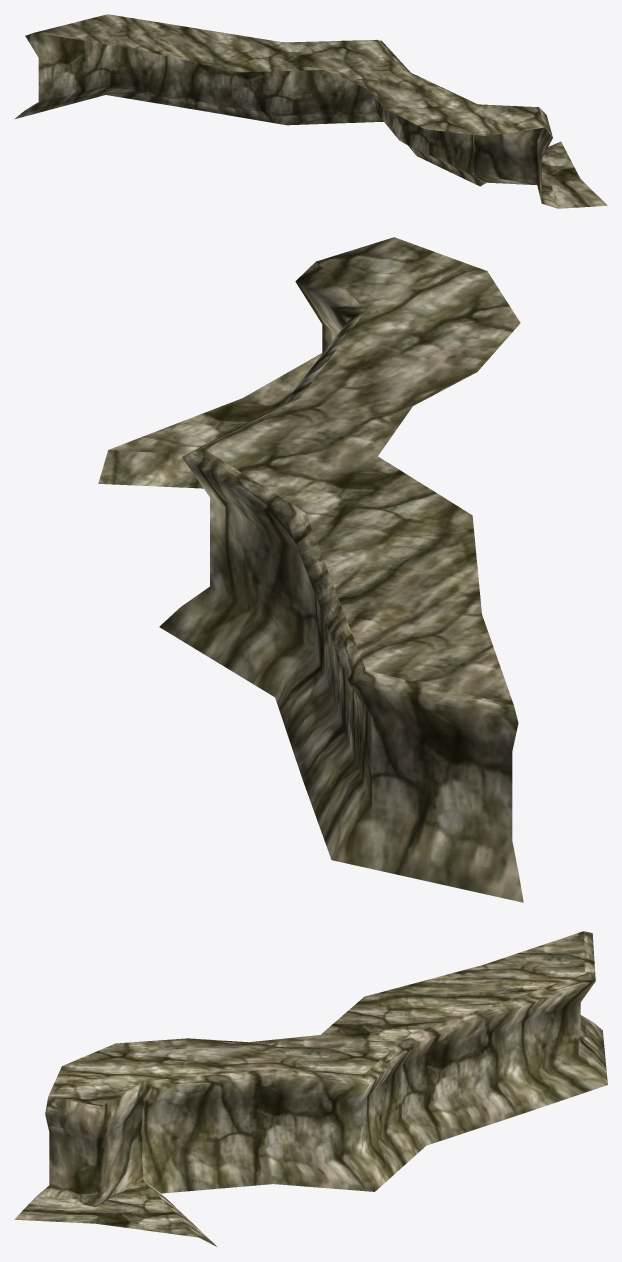
File: CB_NEWPLAYSURFACE_CB_PLAYSURFACE107.fbx
3 views of the same model, one above another, from view 1: azimuth 30°, elevation 25°; view 2: azimuth 150°, elevation 25°; view 3: azimuth 270°, elevation 25° (orthographic). The views are drawn at different scales.
Visible parts, largest first — view 1: CB_NEWPLAYSURFACE_CB_PLAYSURFACE107; view 2: CB_NEWPLAYSURFACE_CB_PLAYSURFACE107; view 3: CB_NEWPLAYSURFACE_CB_PLAYSURFACE107.
Boxes of the visible parts, bbox=[...] form: CB_NEWPLAYSURFACE_CB_PLAYSURFACE107: bbox=[14, 14, 607, 208]; CB_NEWPLAYSURFACE_CB_PLAYSURFACE107: bbox=[98, 237, 523, 902]; CB_NEWPLAYSURFACE_CB_PLAYSURFACE107: bbox=[14, 931, 607, 1246].
Size of the model in its own units: 178825 by 40600 by 204716.
2 materials, 2 textured.
